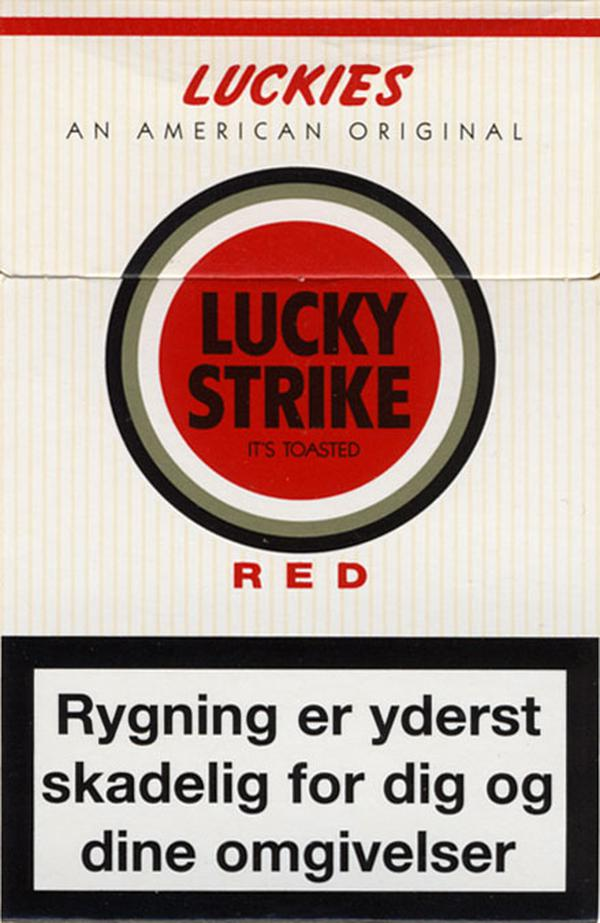lucky_strike_red: (1, 6, 598, 921)
